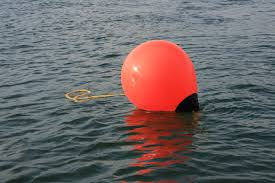buoy: (121, 39, 199, 115)
